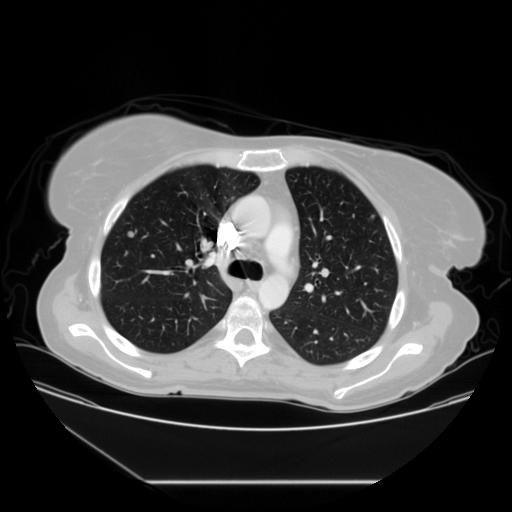nodule: (125, 228, 137, 240)
